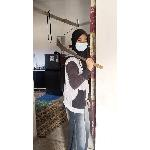Golok: (52, 37, 106, 69)
